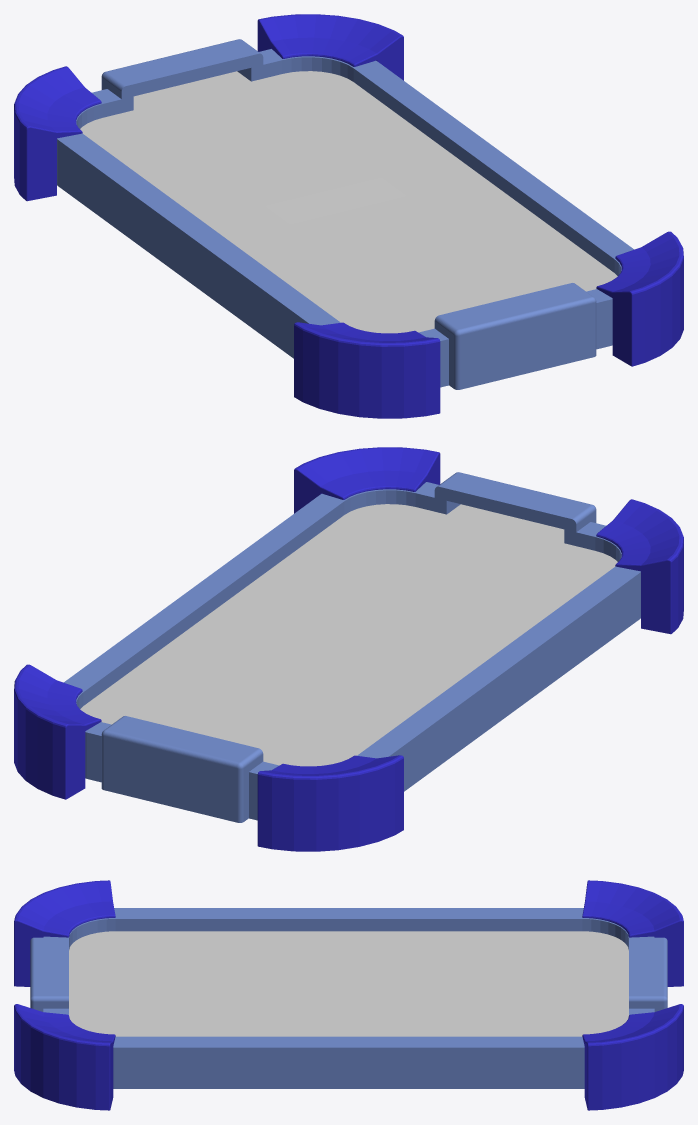
Rendered from Stage1.fbx.
The picture shows the model from 3 angles, top to bottom: view 1: azimuth 30°, elevation 25°; view 2: azimuth 150°, elevation 25°; view 3: azimuth 270°, elevation 25°; orthographic projection. The views are drawn at different scales.
Visible parts, largest first — view 1: Plane; view 2: Plane; view 3: Plane.
Part boxes in pixels (x1,y1,x2,y2): Plane: [14, 14, 683, 418]; Plane: [14, 447, 683, 851]; Plane: [14, 880, 683, 1110].
Size of the model in its own units: 836 by 156 by 1436.
